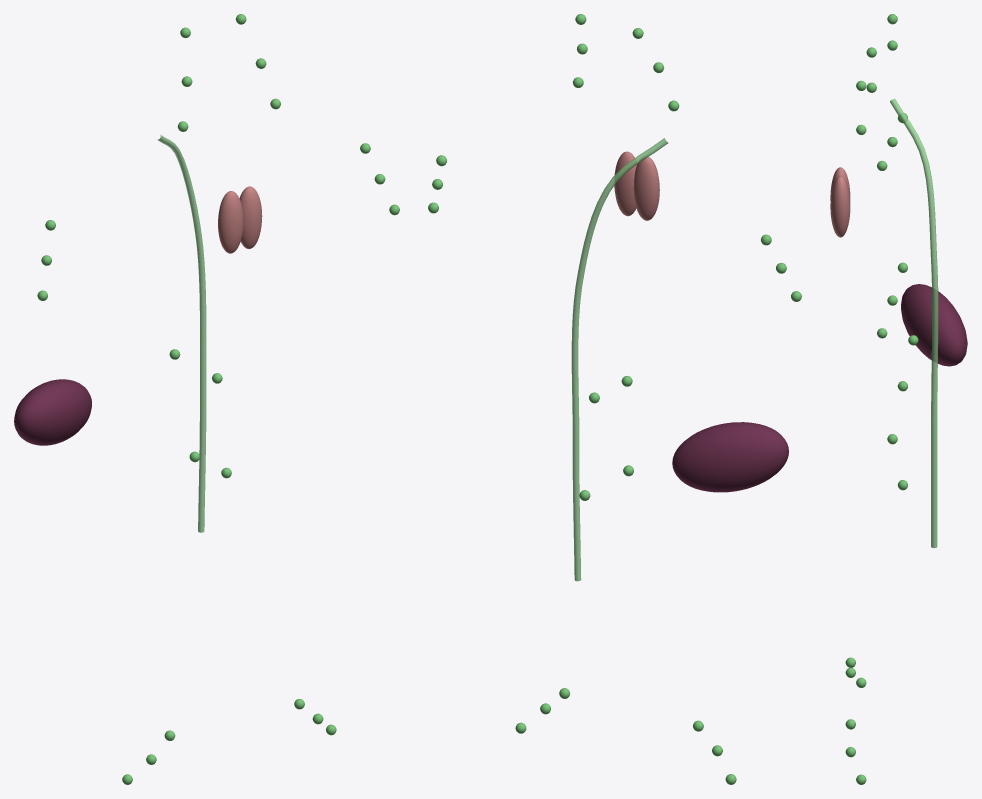
Rendered from 07_lymphatic.glb.
3 renders of one model, left to right at view 1: azimuth 30°, elevation 25°; view 2: azimuth 150°, elevation 25°; view 3: azimuth 270°, elevation 25°, orthographic. The views are drawn at different scales.
Parts seen in each view (by area): view 1: spleen_lien, thoracic_duct_cisterna_chyli, thymus_gland; view 2: spleen_lien, thoracic_duct_cisterna_chyli, thymus_gland; view 3: spleen_lien, thoracic_duct_cisterna_chyli, thymus_gland.
Part boxes in pixels (x1,y1,x2,y2): spleen_lien: [14, 379, 91, 445]; thoracic_duct_cisterna_chyli: [157, 134, 206, 532]; thymus_gland: [218, 186, 262, 253]; spleen_lien: [672, 422, 788, 492]; thoracic_duct_cisterna_chyli: [571, 138, 668, 581]; thymus_gland: [614, 151, 659, 220]; spleen_lien: [901, 284, 967, 366]; thoracic_duct_cisterna_chyli: [890, 98, 938, 548]; thymus_gland: [830, 167, 850, 237].
Bounding box in the file's own units: 0.3941 × 0.75 × 0.1316.
